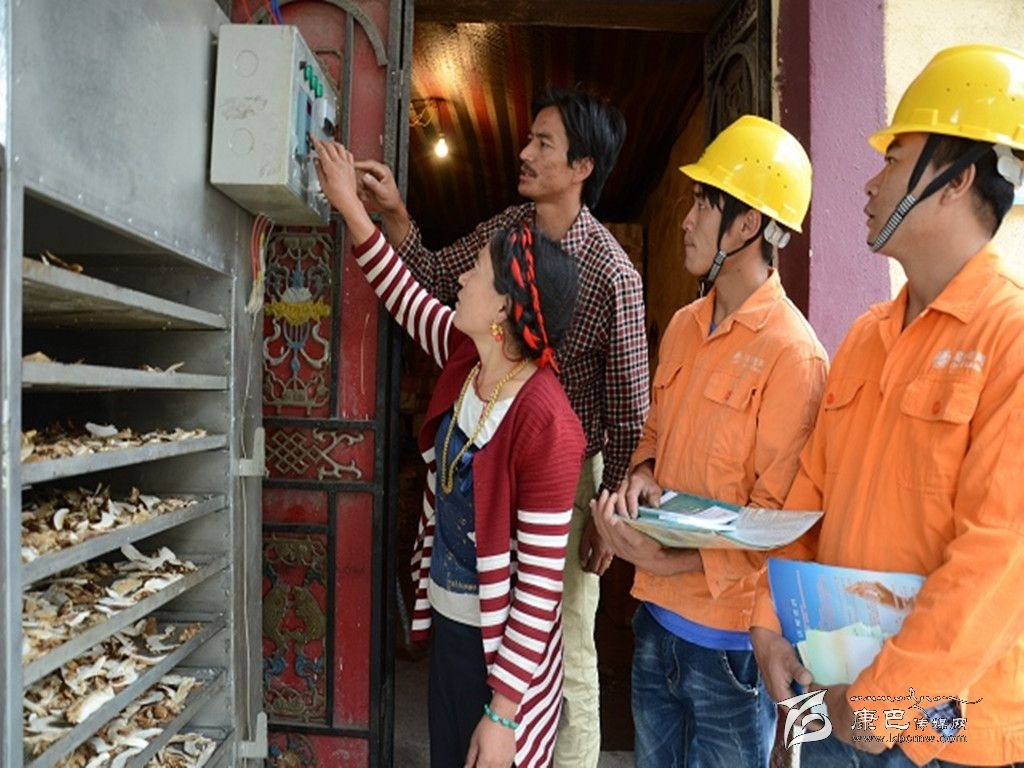none: (441, 223, 576, 359), (509, 83, 628, 209)
yellow: (866, 47, 1023, 277), (673, 109, 817, 283)
